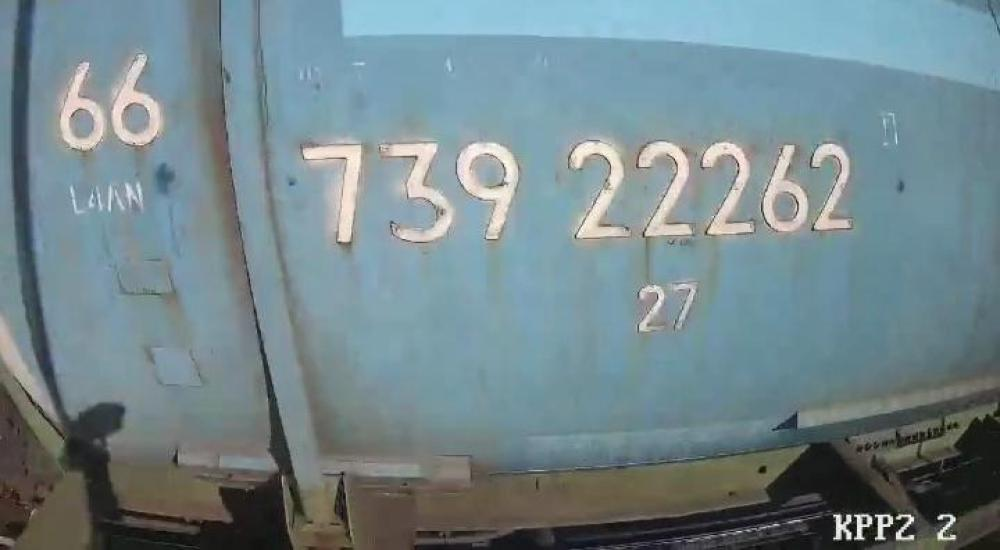Wagon-number: (291, 134, 864, 250)
